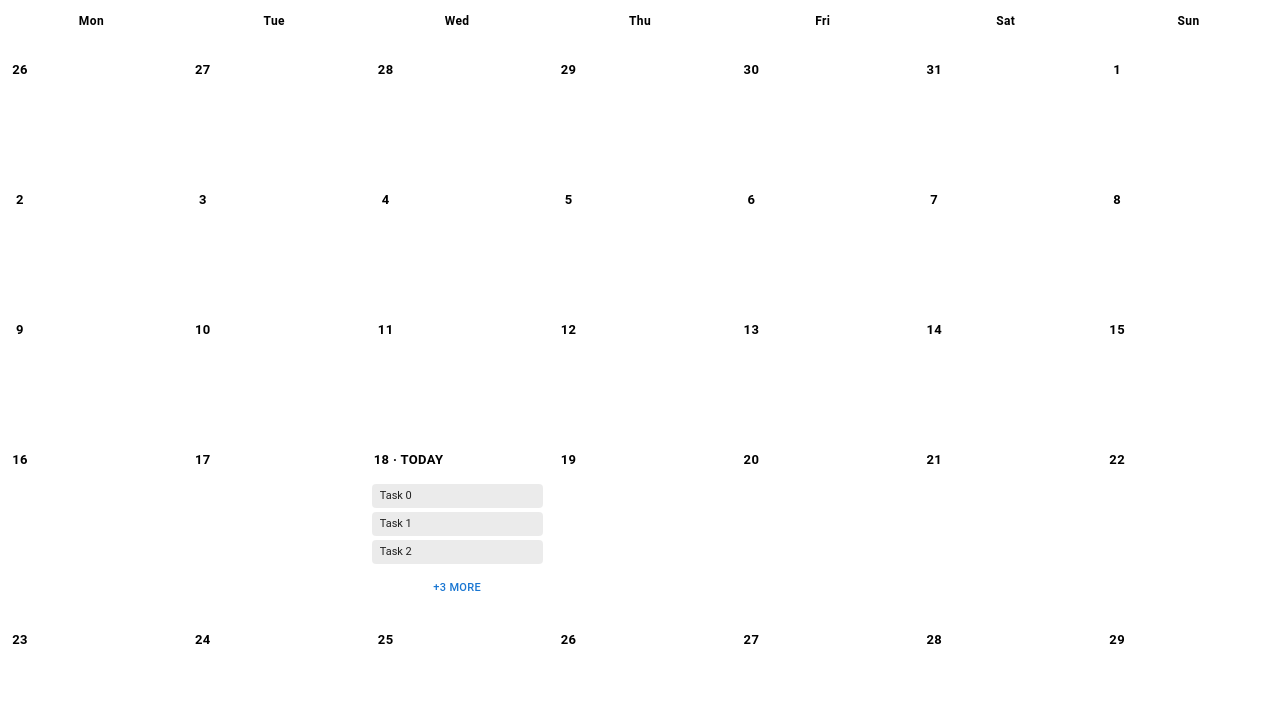
Test: calendar month and year › shows task overflow and opens the complete day list
Click the button "+3 more" at (457, 588), box [372,568,543,608]
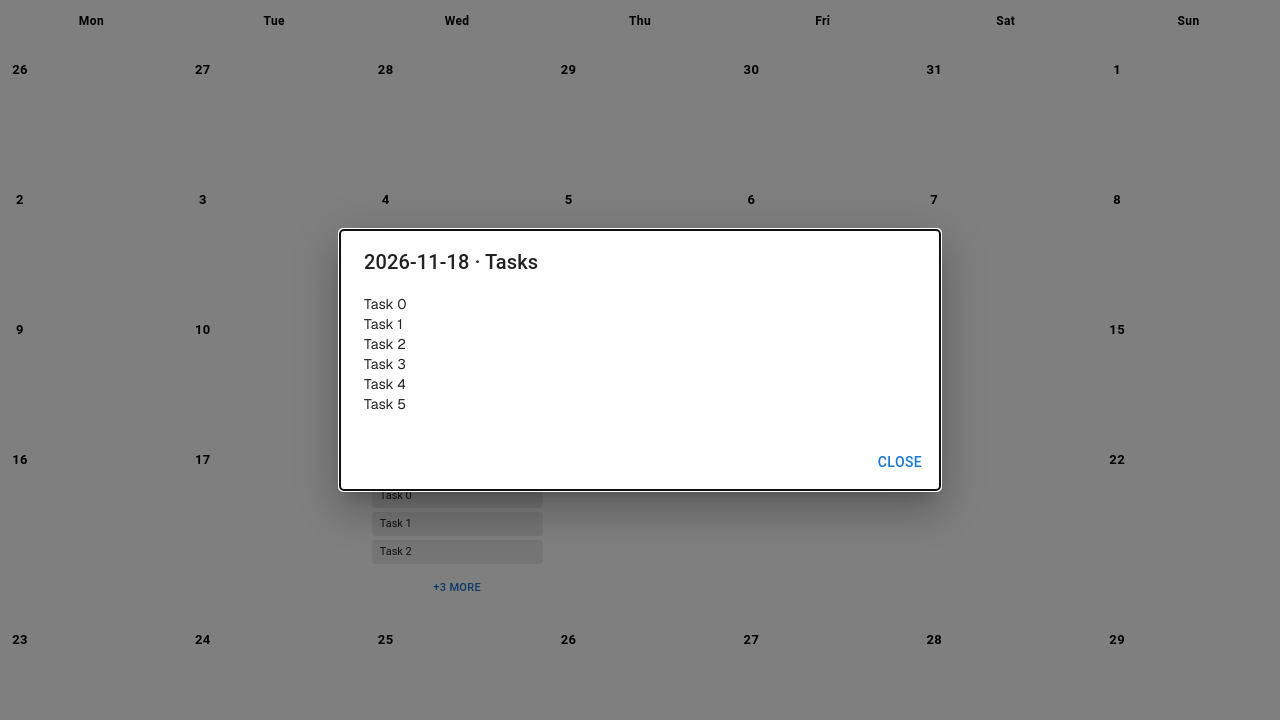
Check: the text "Task 5" is shown, box [364,395,406,413]
